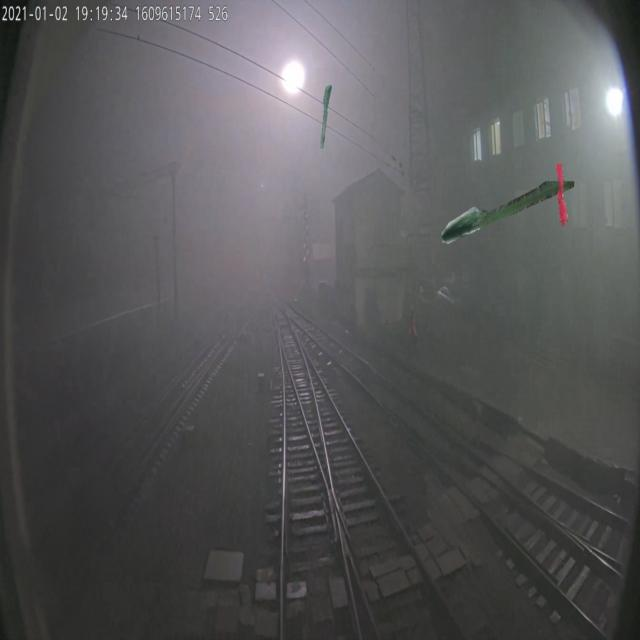floating object: (441, 182, 576, 246), (555, 162, 568, 226), (319, 84, 332, 148)
